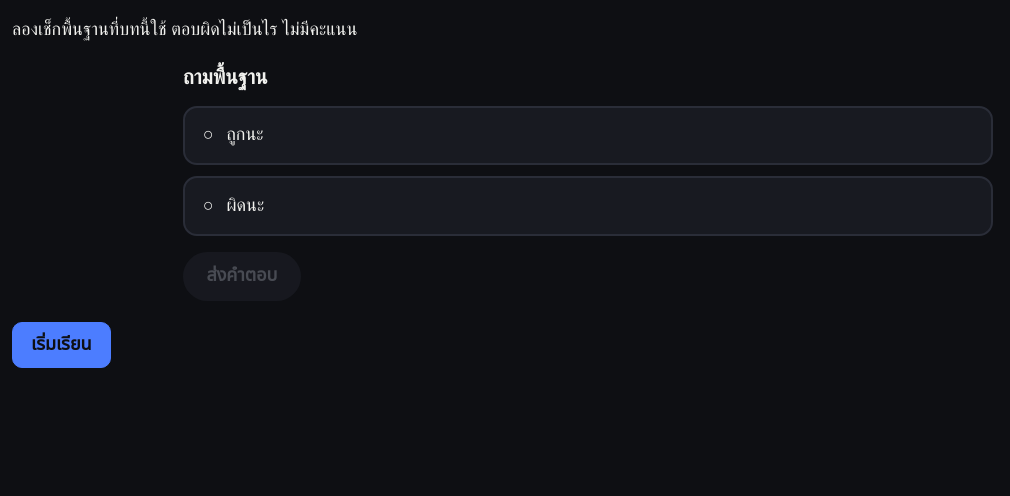
Test: PrecheckStep › wrong answer shows explanation and review link
What coordinates should you click on to do the following:
click the button "○ ผิดนะ"
I would click on:
 (245, 205)
Its box is [183,176,993,236].
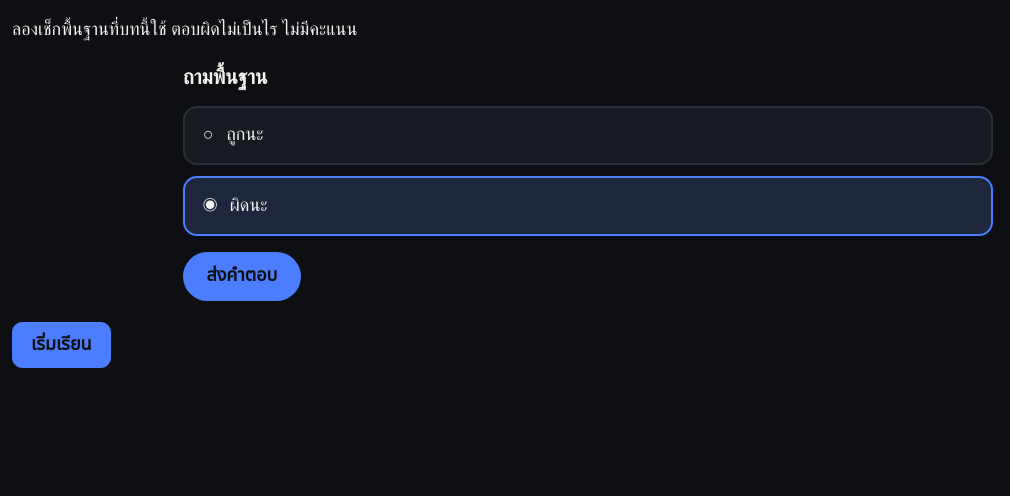
What coordinates should you click on to do the following:
click the button "ส่งคำตอบ"
I would click on:
 (242, 276)
Its box is [183,252,301,301].
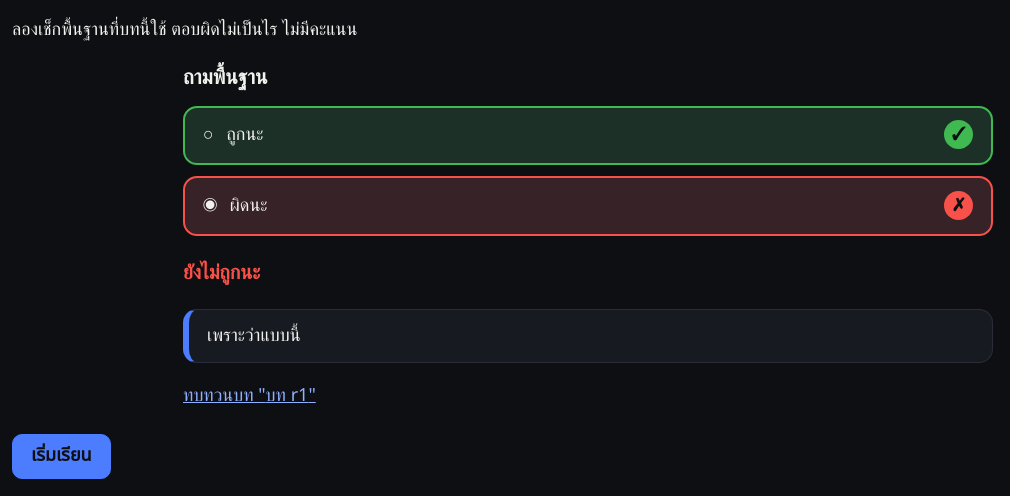
Now the text "เพราะว่าแบบนี้" is shown, box [183,309,993,364]
